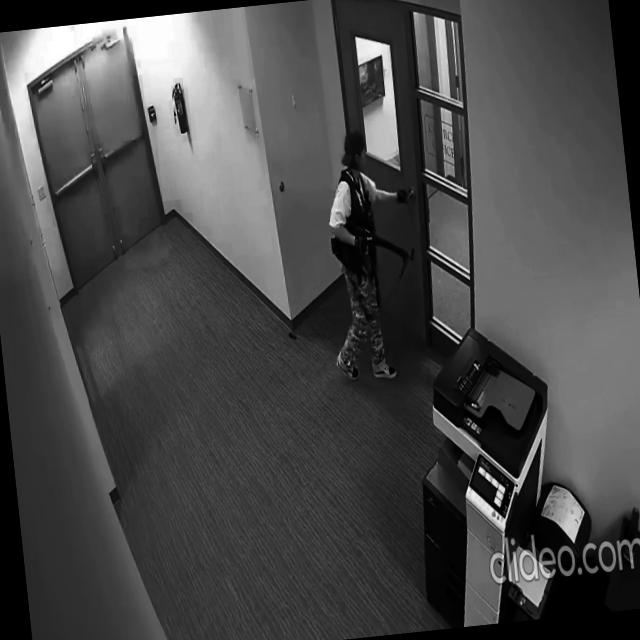gun: (344, 212, 416, 270)
person with a gun: (311, 123, 428, 386)
